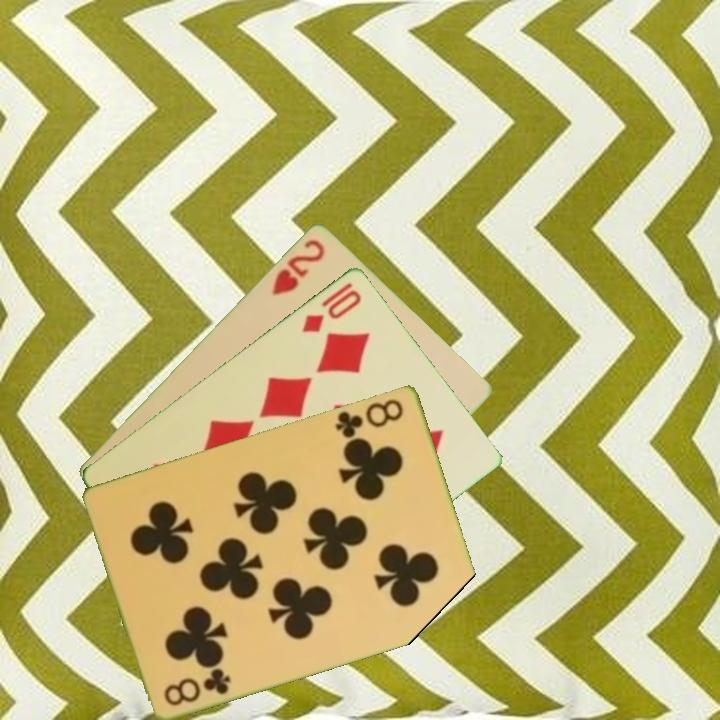10d: (298, 278, 365, 336)
2h: (268, 235, 328, 298)
8c: (332, 395, 407, 444), (160, 664, 234, 708)
